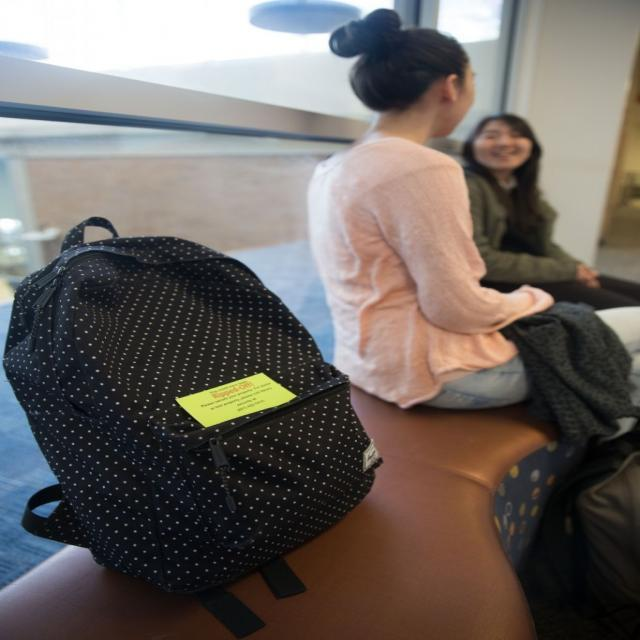Backpacks: (4, 220, 396, 630)
